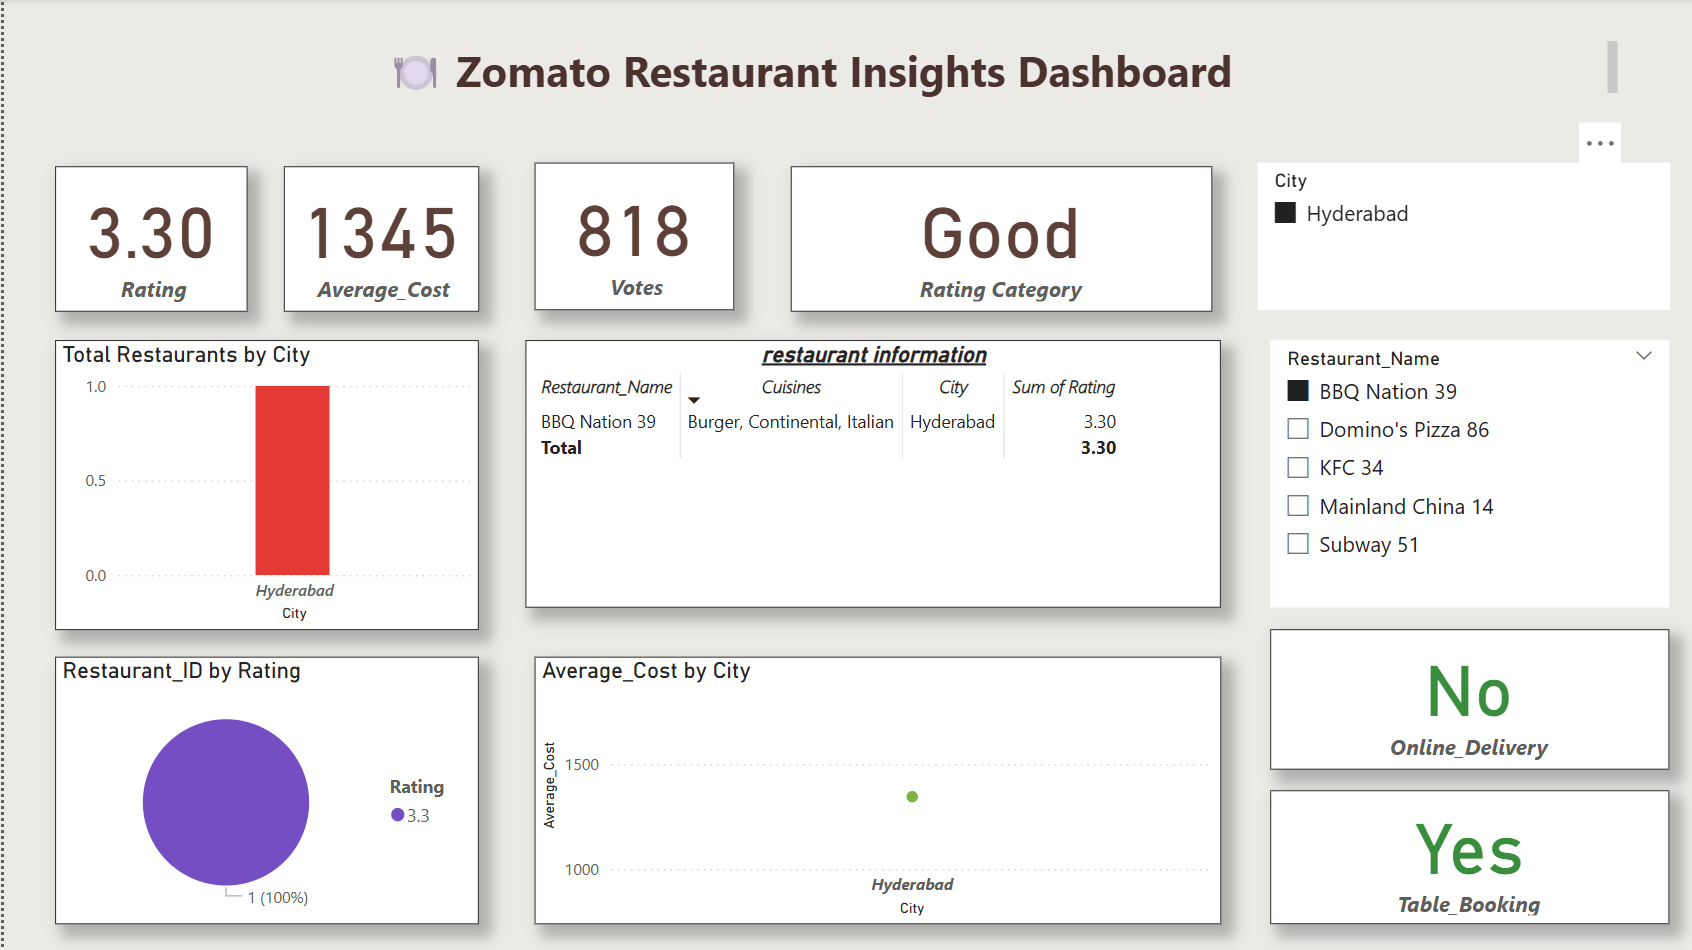

The dashboard page shown, as its layout file describes it:
{"tool":"powerbi","page":{"name":"Page 1","canvas":[1280,720],"ordinal":0},"visuals":[{"type":"textbox","box":[0,27.5,1225,65],"z":0},{"type":"card","fields":{"Values":["zomato_dataset_sample.Average Rating"]},"box":[39.4,126.8,145.6,109.6],"z":1000},{"type":"card","fields":{"Values":["Sum(zomato_dataset_sample.Average_Cost)"]},"box":[212.4,126.8,147.3,109.6],"z":2000},{"type":"card","fields":{"Values":["zomato_dataset_sample.Total Votes"]},"box":[400.8,125,150.7,111.3],"z":3000},{"type":"columnChart","fields":{"Y":["zomato_dataset_sample.Total Restaurants"],"Category":["zomato_dataset_sample.City"]},"box":[39.4,258.7,320.3,219.3],"z":4000},{"type":"pieChart","fields":{"Y":["CountNonNull(zomato_dataset_sample.Restaurant_ID)"],"Category":["zomato_dataset_sample.Rating"]},"box":[39.4,498.5,320.3,202.1],"z":5000},{"type":"tableEx","title":"restaurant information ","fields":{"Values":["zomato_dataset_sample.Restaurant_Name","zomato_dataset_sample.Cuisines","zomato_dataset_sample.City","Sum(zomato_dataset_sample.Rating)"]},"box":[394,258.7,525.9,202.1],"z":6000},{"type":"card","fields":{"Values":["Min(zomato_dataset_sample.Rating Category)"]},"box":[594.4,126.8,318.6,109.6],"z":7000},{"type":"lineChart","fields":{"Category":["zomato_dataset_sample.City"],"Y":["Sum(zomato_dataset_sample.Average_Cost)"]},"box":[400.8,498.5,519,202.1],"z":8000},{"type":"slicer","fields":{"Values":["zomato_dataset_sample.Restaurant_Name"]},"box":[957.5,258.7,301.5,202.1],"z":9000},{"type":"card","fields":{"Values":["Min(zomato_dataset_sample.Has_Online_Delivery)"]},"box":[957.5,477.9,301.5,106.2],"z":10000},{"type":"card","fields":{"Values":["Min(zomato_dataset_sample.Has_Table_Booking)"]},"box":[957.5,599.5,301.5,101.1],"z":11000},{"type":"slicer","fields":{"Values":["zomato_dataset_sample.City"]},"box":[947.3,125,311.8,111.3],"z":12000}]}

Visuals, with their boxes in screenshot pixels (x1, y1, x2, y2), scaled from the page's 1280x720 canvas onto the 1692x950 screenshot:
textbox: (0, 36, 1619, 122)
card - zomato_dataset_sample.Average Rating: (52, 167, 245, 312)
card - Sum(zomato_dataset_sample.Average_Cost): (281, 167, 475, 312)
card - zomato_dataset_sample.Total Votes: (530, 165, 729, 312)
columnChart - zomato_dataset_sample.Total Restaurants x zomato_dataset_sample.City: (52, 341, 475, 631)
pieChart - CountNonNull(zomato_dataset_sample.Restaurant_ID) x zomato_dataset_sample.Rating: (52, 658, 475, 924)
"restaurant information " tableEx: (521, 341, 1216, 608)
card - Min(zomato_dataset_sample.Rating Category): (786, 167, 1207, 312)
lineChart - zomato_dataset_sample.City x Sum(zomato_dataset_sample.Average_Cost): (530, 658, 1216, 924)
slicer - zomato_dataset_sample.Restaurant_Name: (1266, 341, 1664, 608)
card - Min(zomato_dataset_sample.Has_Online_Delivery): (1266, 631, 1664, 771)
card - Min(zomato_dataset_sample.Has_Table_Booking): (1266, 791, 1664, 924)
slicer - zomato_dataset_sample.City: (1252, 165, 1664, 312)
